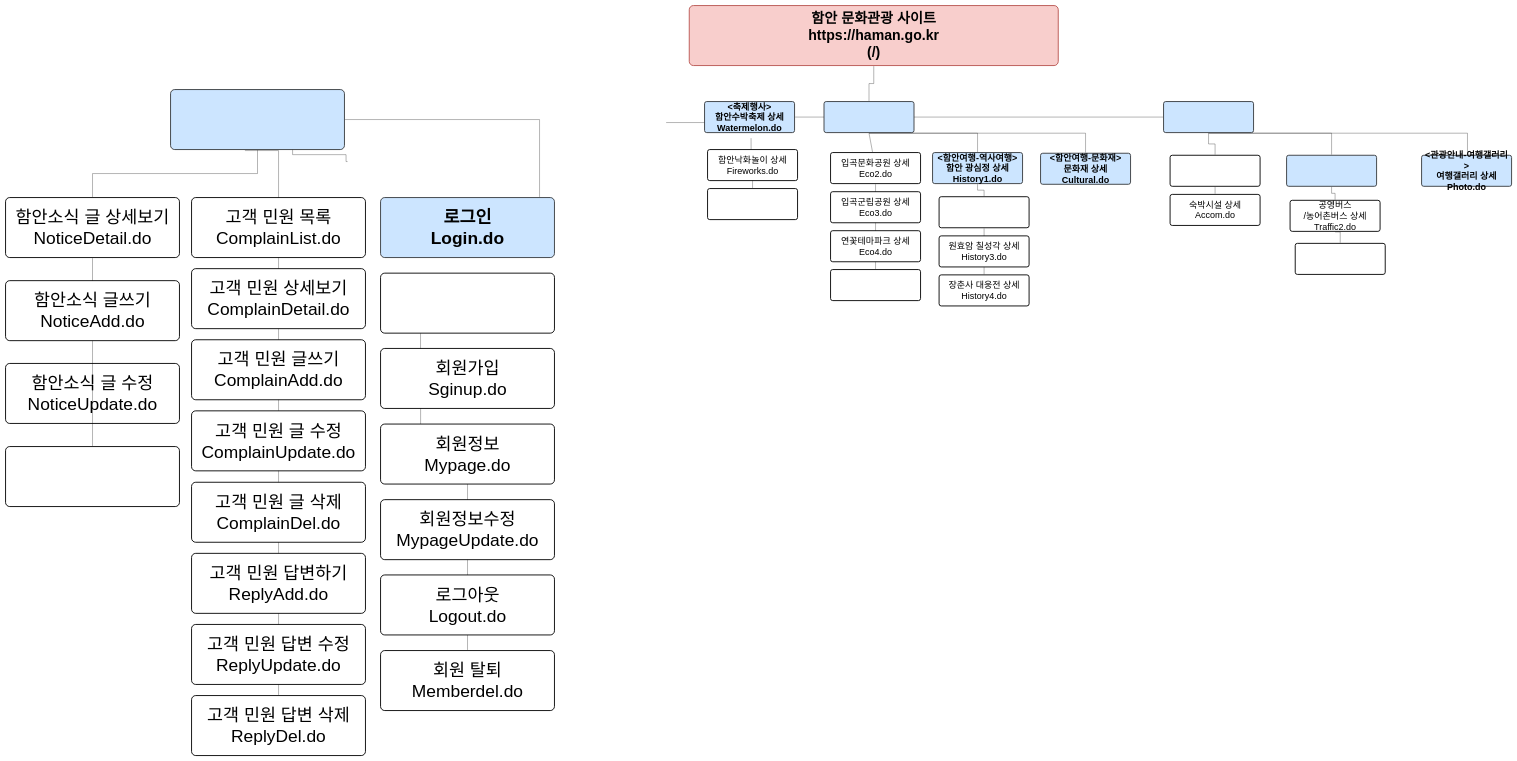
The diagram is 1517 pixels wide and 761 high, and some of its shapes have lost their labels. Here are the shapes that lost their labels. From the top down, the box of each, then its label:
(170, 89, 345, 150): <공지사항> 함안소식 글 목록 NoticeList.do
(823, 101, 914, 133): <함안여행-생태관광> 함안안양둑방 상세 Eco1.do
(1163, 101, 1254, 133): <관광안내-관광지도> 전통시장 상세 Market.do
(1169, 155, 1260, 187): 음식점 상세 Food.do
(1286, 155, 1377, 187): <관광안내-교통안내> 시내/시외버스 상세 Traffic1.do
(707, 188, 798, 220): 해바라기축제 상세 Sunflower.do
(938, 196, 1029, 228): 함안악양루 상세 History2.do
(1295, 243, 1386, 275): 기차/택시 상세 Traffic3.do
(380, 273, 555, 333): 회원가입 이용약관 Agree.do
(830, 269, 921, 301): 악양생태공원 상세 Eco5.do
(5, 446, 180, 507): 함안소식 글 삭제 NoticeDel.do
